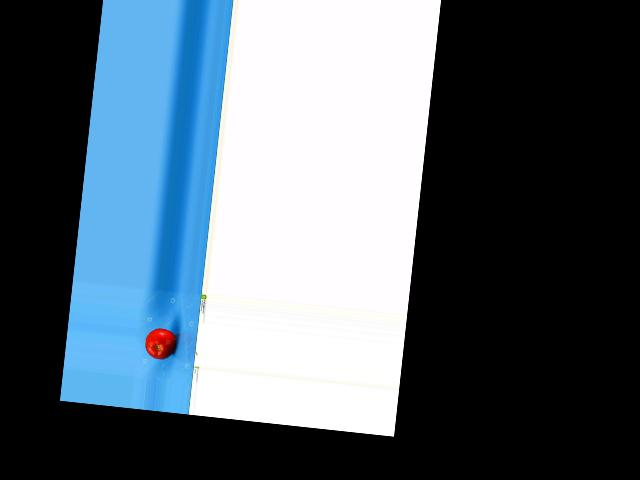tomato: (144, 327, 177, 361)
